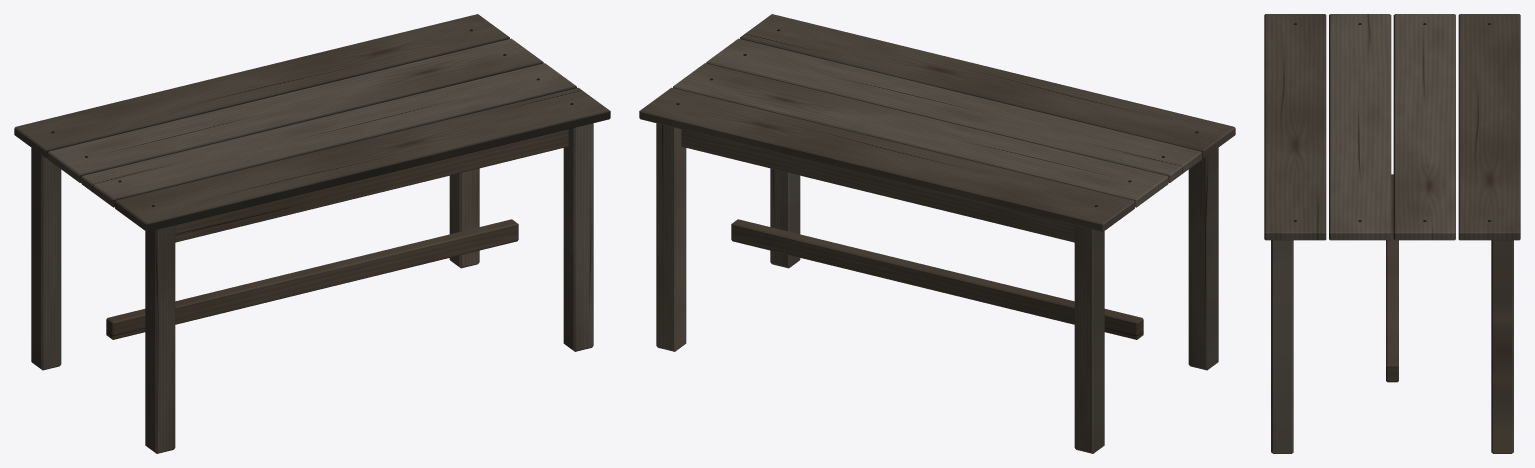
Rendered from S7U_Table.fbx.
3 views of the same model, side by side, from view 1: azimuth 30°, elevation 25°; view 2: azimuth 150°, elevation 25°; view 3: azimuth 270°, elevation 25° (orthographic). The views are drawn at different scales.
Visible parts, largest first — view 1: S7U_Table; view 2: S7U_Table; view 3: S7U_Table.
Part boxes in pixels (box(x1,y1,x2,y2)): S7U_Table: box(14, 14, 610, 453); S7U_Table: box(639, 14, 1235, 453); S7U_Table: box(1264, 14, 1520, 453).
Bounding box in the file's own units: 1.6 × 0.7825 × 0.792.
